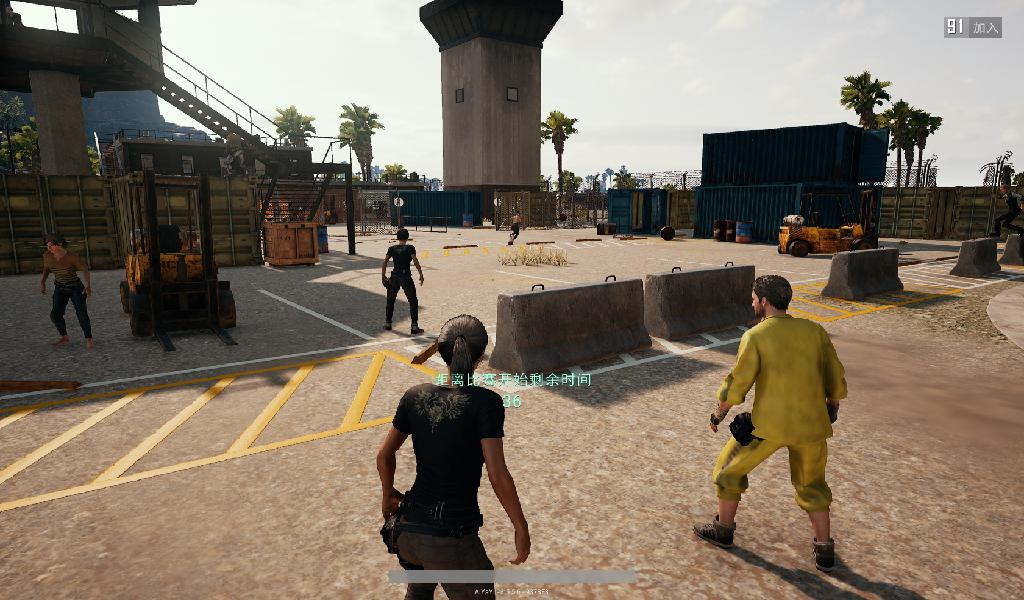Target Person: (694, 275, 849, 577), (377, 315, 531, 600), (36, 234, 99, 350), (381, 228, 426, 339), (508, 209, 523, 248)
